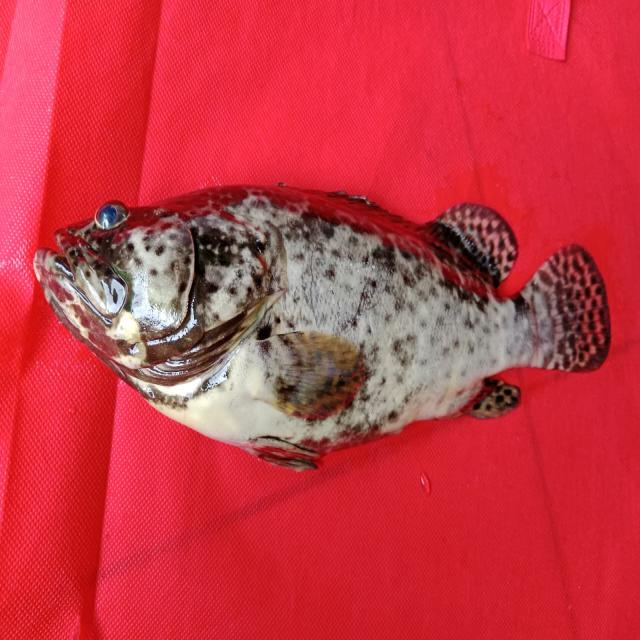ikan: (33, 180, 611, 472)
